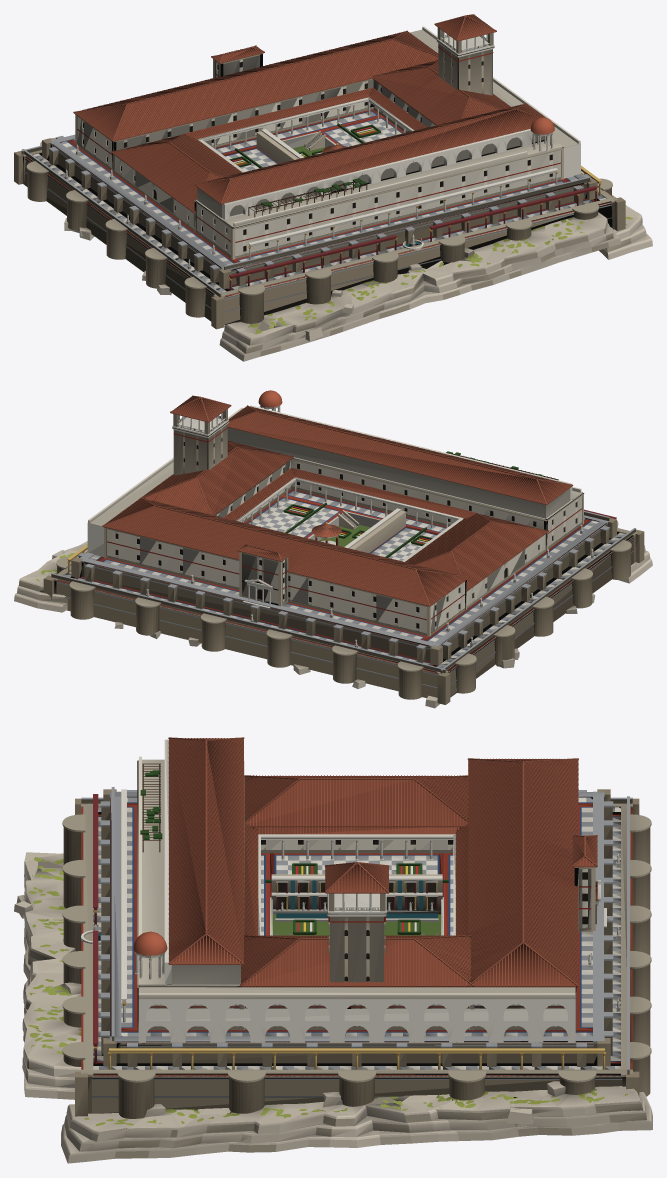
File: rome_transitoria.glb
3 views of the same model, one above another, from view 1: azimuth 30°, elevation 25°; view 2: azimuth 150°, elevation 25°; view 3: azimuth 270°, elevation 25° (orthographic). The views are drawn at different scales.
Parts seen in each view (by area): view 1: rome_transitoria; view 2: rome_transitoria; view 3: rome_transitoria.
Boxes of the visible parts, x1,y1,x2,y2 form: rome_transitoria: [14, 14, 652, 361]; rome_transitoria: [14, 390, 652, 708]; rome_transitoria: [14, 737, 652, 1163].
Bounding box in the file's own units: 153 × 57.22 × 134.
